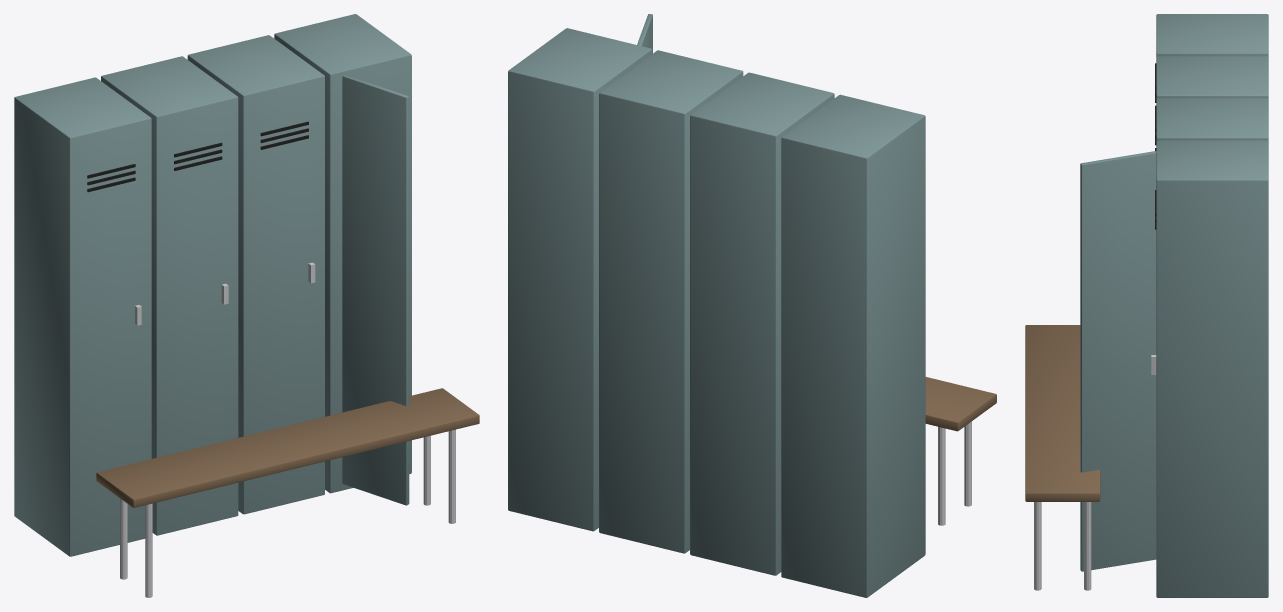
Rendered from locker_row.glb.
3 renders of one model, left to right at view 1: azimuth 30°, elevation 25°; view 2: azimuth 150°, elevation 25°; view 3: azimuth 270°, elevation 25°, orthographic. The views are drawn at different scales.
Visible parts, largest first — view 1: locker_row; view 2: locker_row; view 3: locker_row.
Boxes of the visible parts, x1=… form: locker_row: x1=14, y1=14, x2=479, y2=597; locker_row: x1=508, y1=14, x2=996, y2=597; locker_row: x1=1025, y1=14, x2=1268, y2=597.
Size of what is drawn, in the model's own units: 1.6 by 1.85 by 0.975.
